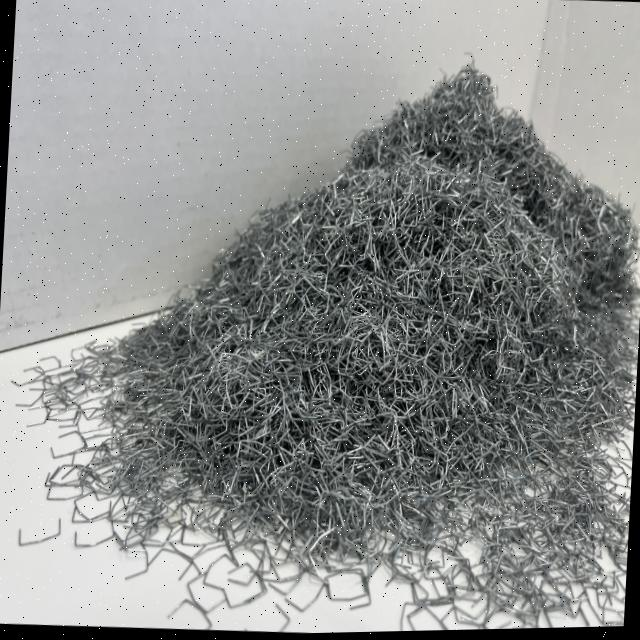staples: (1, 24, 640, 640)
